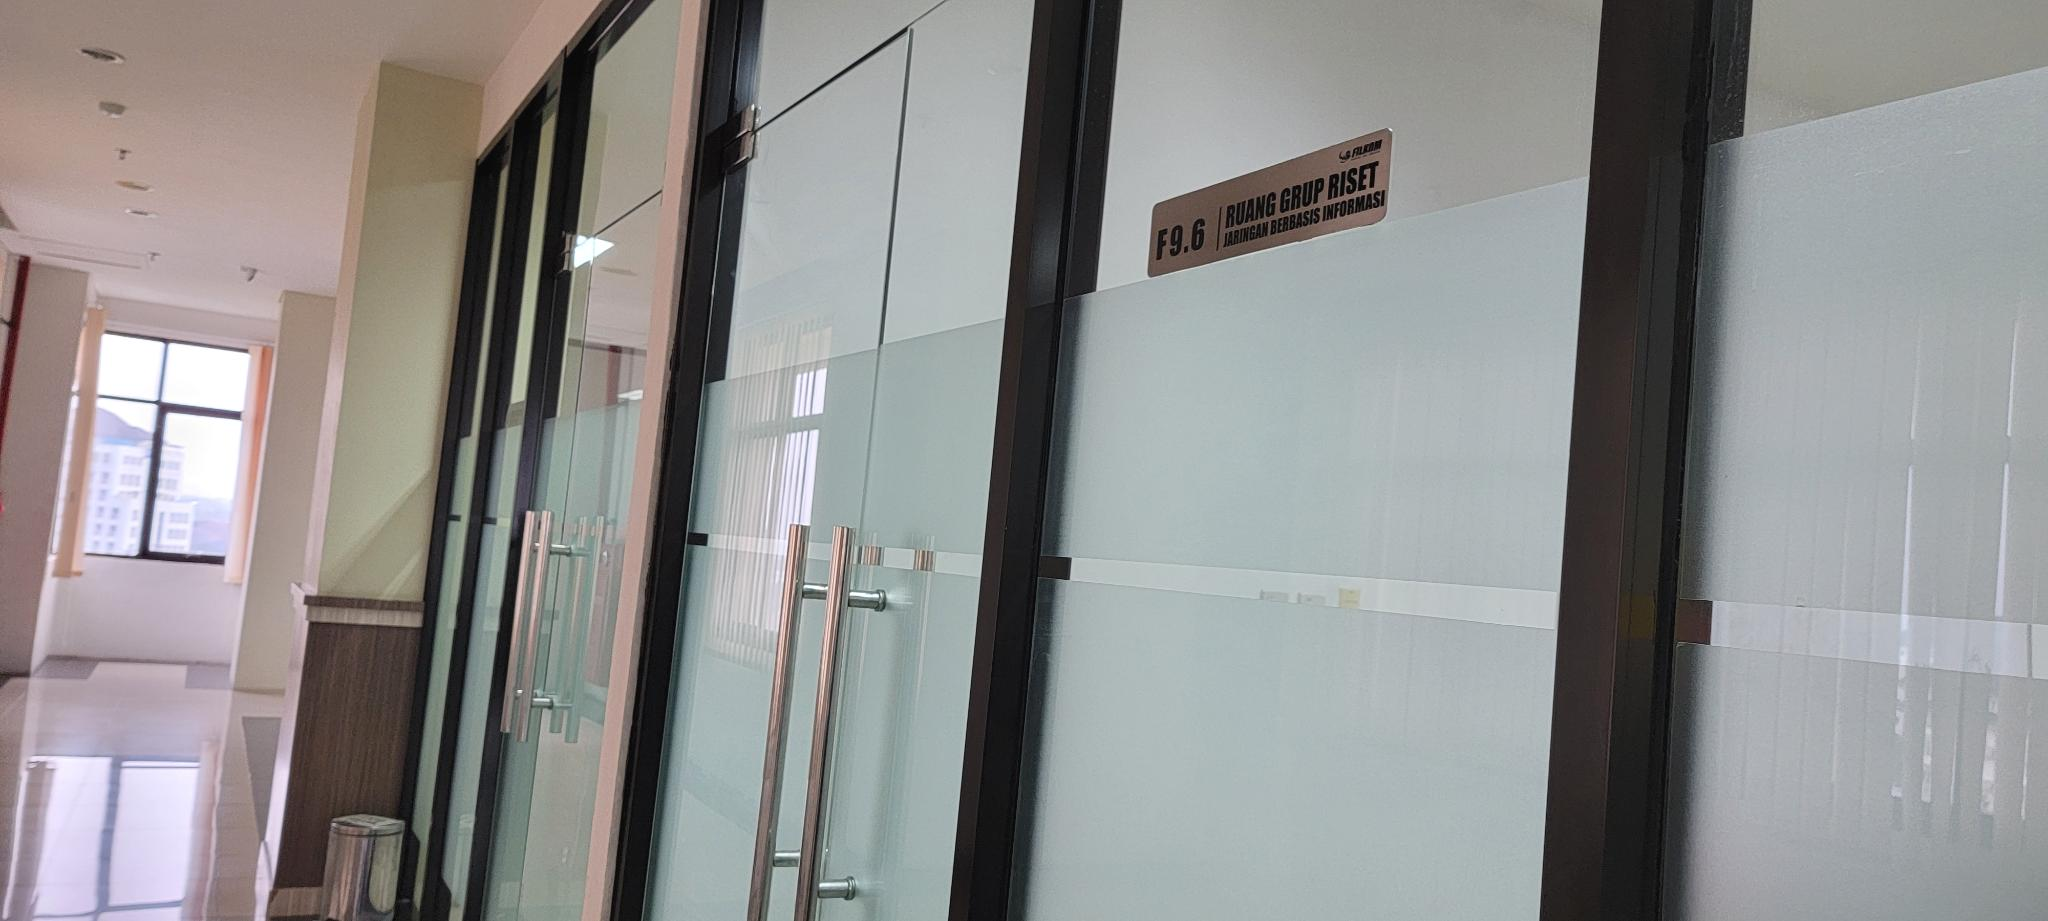plate: (1145, 127, 1395, 282)
